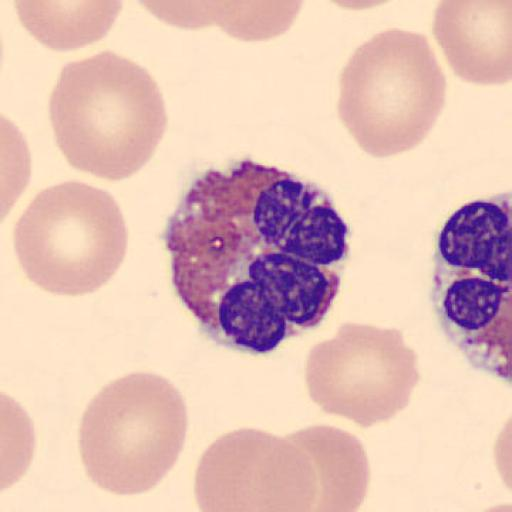RBC: (49, 48, 169, 182), (76, 368, 190, 499), (335, 27, 447, 159), (11, 177, 131, 298), (303, 320, 422, 430), (192, 424, 318, 512), (275, 421, 371, 512), (432, 0, 511, 87), (13, 0, 125, 52), (208, 0, 307, 44), (0, 388, 38, 496), (0, 113, 33, 224), (131, 0, 226, 32), (490, 411, 512, 505), (492, 419, 512, 491), (315, 0, 406, 11), (471, 499, 512, 512)
WBC: (163, 157, 350, 356), (428, 188, 512, 386)
